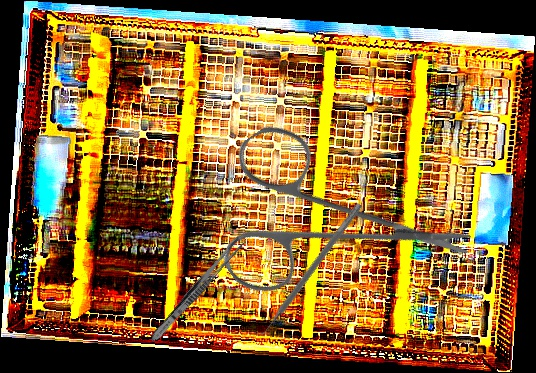Dressing Forceps: (146, 234, 247, 346)
Iris Scissors: (172, 66, 478, 371)
Spatula Surgical: (253, 197, 363, 342)
